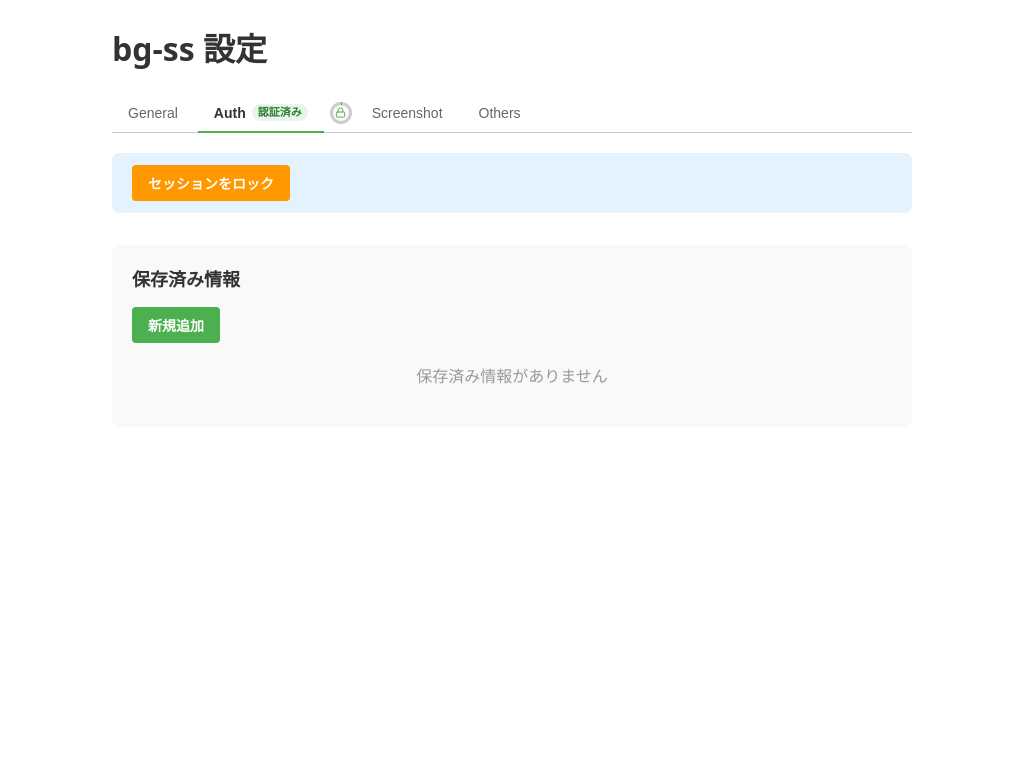
Test case: Options App › 情報追加 › キャンセルボタンでフォームを閉じられる
Note: 新規追加ボタンをクリック
Click the button "新規追加": (176, 325) [132,307,220,343]
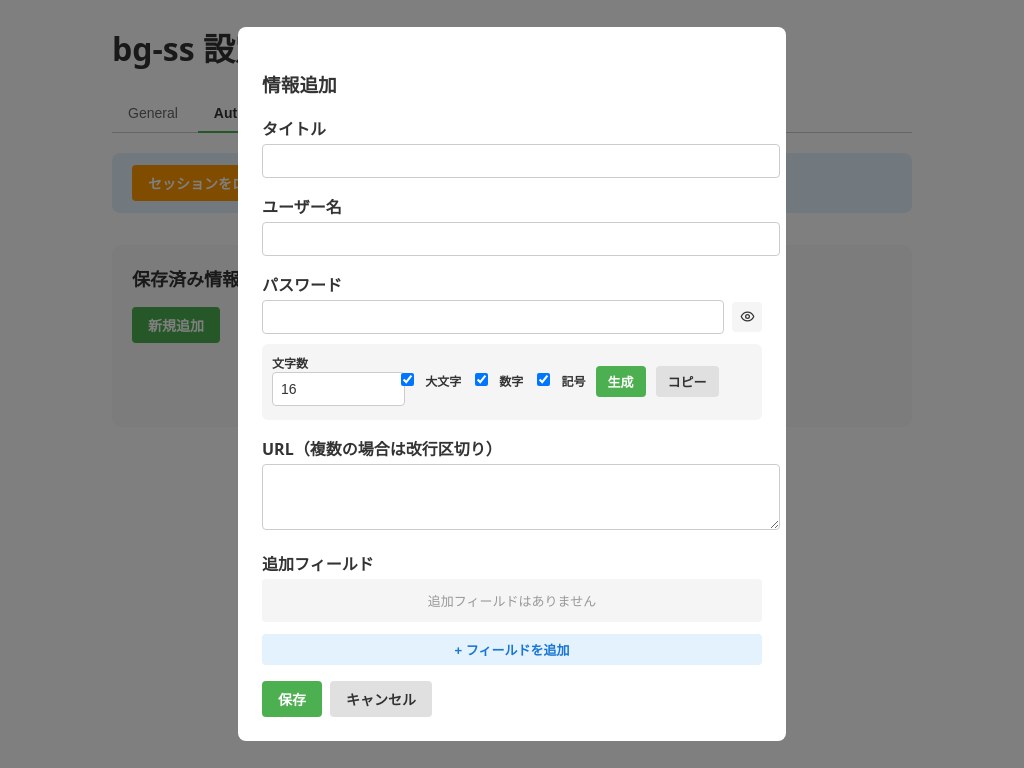
Now the text "情報追加" is shown, box [262,72,337,97]
Note: キャンセルボタンをクリック
Click the button "キャンセル": (381, 699) [330,681,432,717]
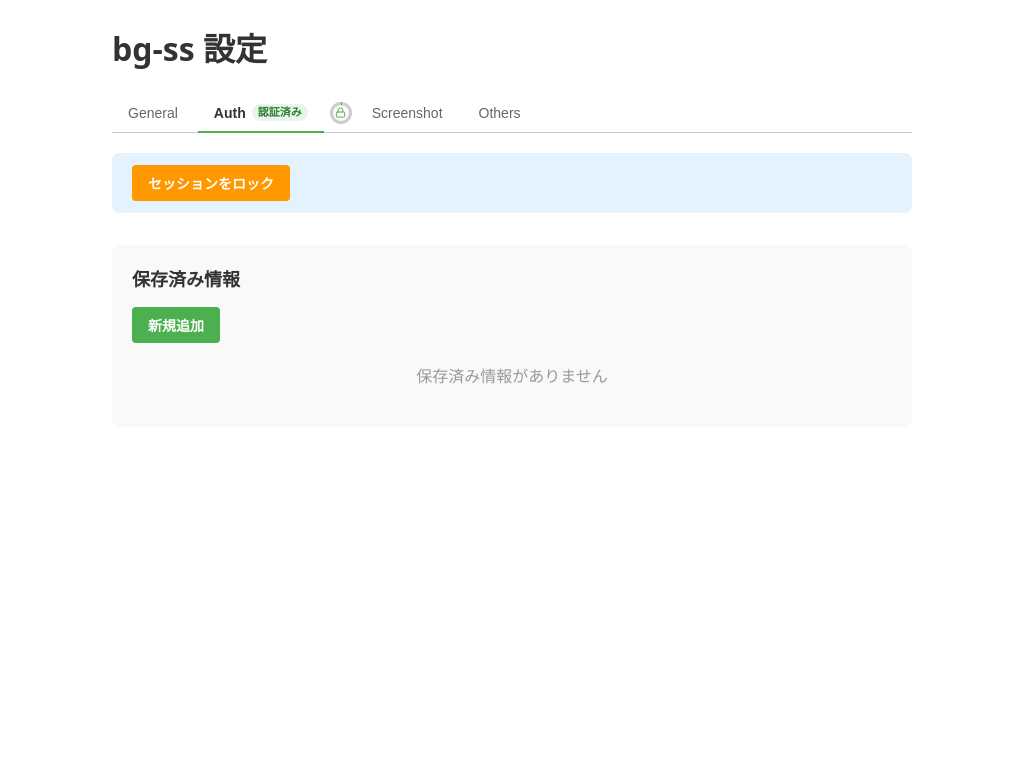
Now the text "情報追加" is gone
